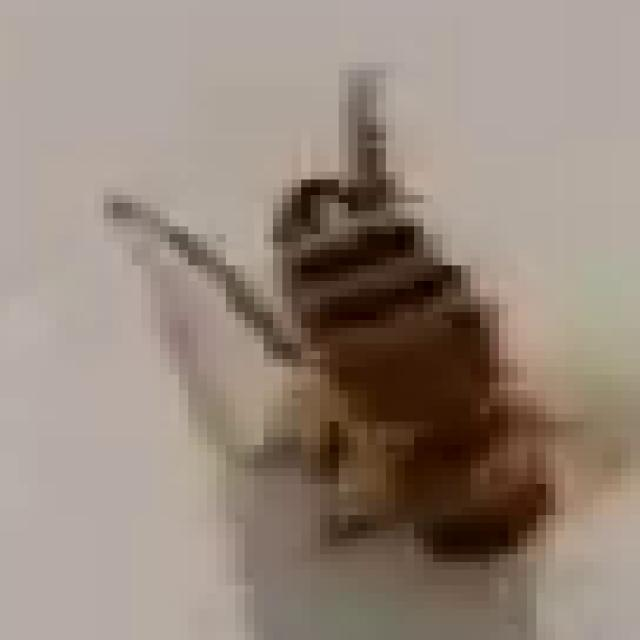honeybee: (96, 82, 567, 585)
